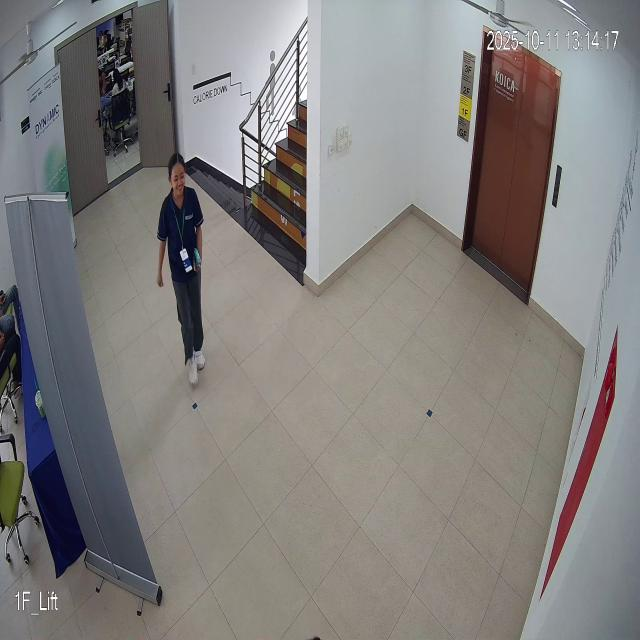face: (167, 152, 192, 207)
